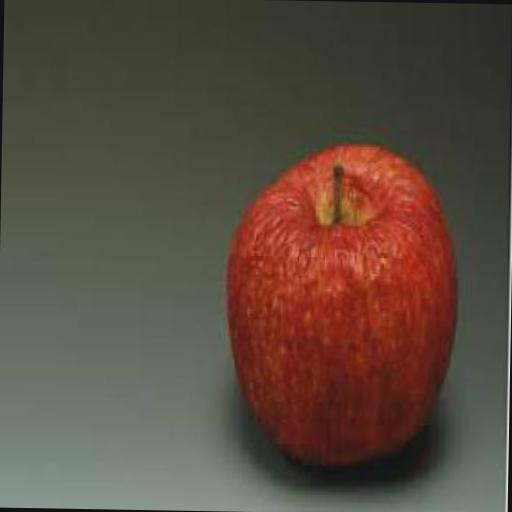biodegradable: (220, 139, 456, 468)
